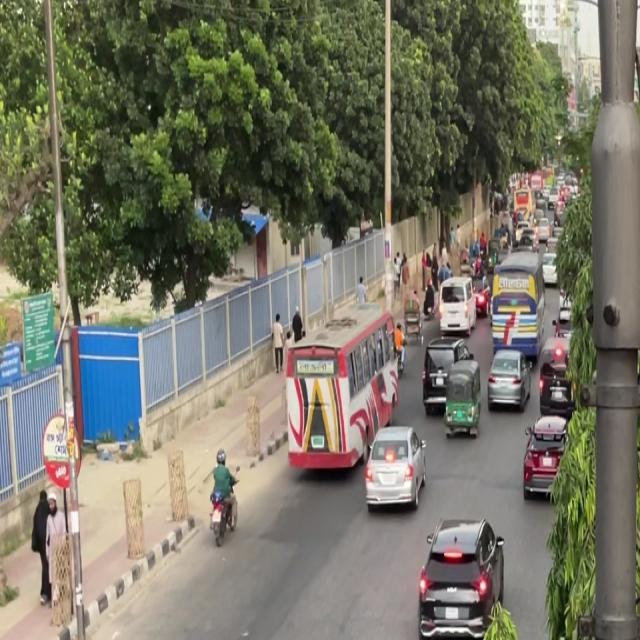bus: (283, 288, 407, 492)
car: (404, 504, 512, 640), (357, 415, 432, 525), (515, 407, 573, 507), (481, 344, 533, 424), (418, 335, 463, 419), (428, 273, 475, 338)
motorbike: (199, 450, 246, 550)
rickshaw: (439, 356, 486, 448)
